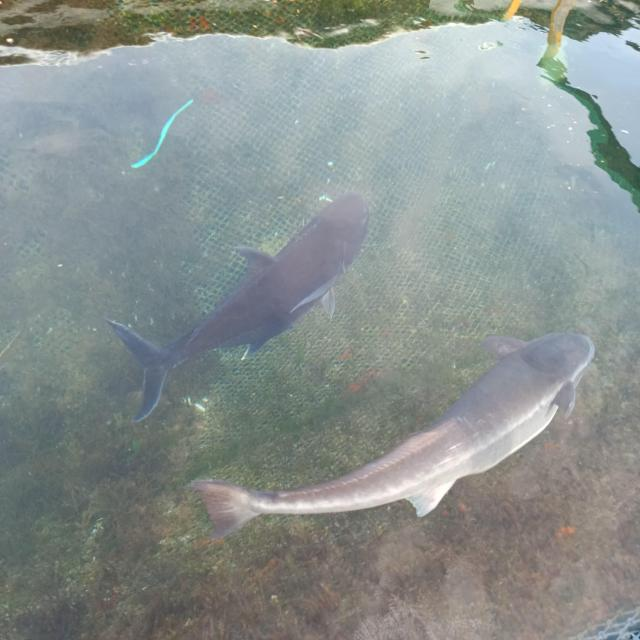ikan: (184, 329, 596, 544), (104, 190, 370, 423)
